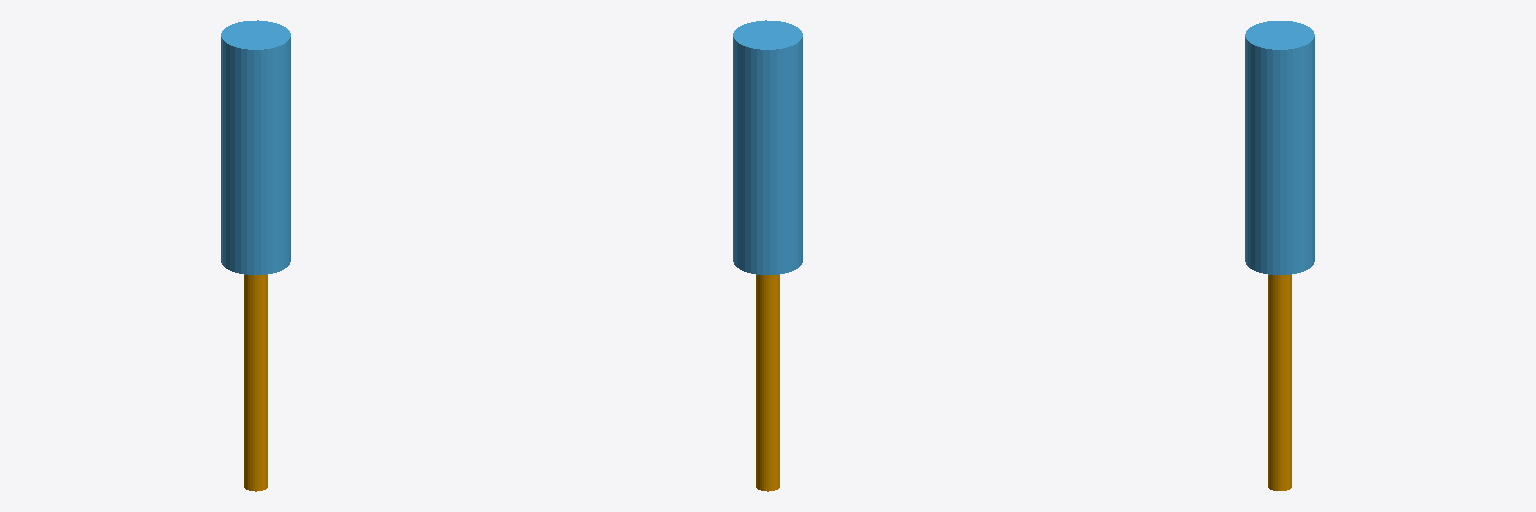
robot.urdf — screwdriver_on_the_table:
<?xml version="1.0" ?>
<!-- this is the one without any virtual joints and links -->
<robot name="screwdriver_on_the_table">
<link name="screwdriver_stick">
    <inertial>
      <mass value="0.05"/>
      <!-- <friction value="1.0"/> -->
      <inertia ixx="0.000041979" ixy="0.0" ixz="0.0" iyy="0.000041979" iyz="0.0" izz="0.000000625"/>
    </inertial>
    <visual>
        <origin rpy="0 0 0" xyz="0 0 0.05"/>
        <geometry>
            <cylinder radius="0.005" length="0.1"/>
        </geometry>
        <!-- <material name="White">
	 	    <color rgba="0.9 0.9 0.9 0.5"/>
        </material> -->
    </visual>
    <collision>
        <origin rpy="0 0 0" xyz="0 0 0.05"/>
        <geometry>
            <cylinder radius="0.005" length="0.1"/>
        </geometry>
    </collision>
</link>

<gazebo reference="screwdriver_body">
    <mu1>0.338520</mu1>
    <mu2>0.678544</mu2>
    <!-- Isaac Sim maps mu1/mu2 to PhysX static/dynamic friction during URDF→USD import -->
</gazebo>

<joint name="screwdriver_stick_body_joint" type="fixed">
    <parent link="screwdriver_stick"/>
    <child link="screwdriver_body"/>
    <origin rpy="0 0 0" xyz="0 0 0.1"/> 
    <axis xyz="0 0 1"/>
</joint>

<link name="screwdriver_body">
    <inertial>
      <mass value="0.084357"/>
      <inertia ixx="0.000074441" ixy="0.0" ixz="0.0" iyy="0.000074441" iyz="0.0" izz="0.000010000"/>
    </inertial>
    <visual>
        <origin rpy="0 0 0" xyz="0 0 0.05"/>
        <geometry>
            <cylinder radius="0.014016" length="0.1"/>
        </geometry>
        <!-- <material name="Red1">
	 	    <color rgba="0.9 0. 0. 0.5"/>
        </material> -->
    </visual>
    <collision>
        <origin rpy="0 0 0" xyz="0 0 0.05"/>
        <geometry>
            <cylinder radius="0.014016" length="0.1"/>
        </geometry>
    </collision>
</link>

<!-- <joint name="screwdriver_body_cap_joint" type="revolute">
    <parent link="screwdriver_body"/>
    <child link="screwdriver_cap"/>
    <origin rpy="0 0 0" xyz="0 0 0.1"/> 
    <axis xyz="0 0 1"/>
</joint>

<link name="screwdriver_cap">
    <inertial>
      <mass value="0.005"/>
      <inertia ixx="0.00001" ixy="0.0" ixz="0.0" iyy="0.000005" iyz="0.0" izz="0.000005"/>
    </inertial>
    <visual>
        <origin rpy="0 0 0" xyz="0 0 0.0006"/>
        <geometry>
            <cylinder radius="0.02" length="0.001"/>
        </geometry>
        <material name="Yellow">
	 	    <color rgba="0.9 0.9 0. 1.0"/>
        </material>
    </visual>
    <collision>
        <origin rpy="0 0 0" xyz="0 0 0.0005"/>
        <geometry>
            <cylinder radius="0.02" length="0.001"/>
        </geometry>
    </collision>
</link> -->

</robot>

--- Facts derived from the render (not from the file) ---
The picture shows the robot from 3 angles, left to right: view 1: azimuth 30°, elevation 25°; view 2: azimuth 150°, elevation 25°; view 3: azimuth 270°, elevation 25°; orthographic projection.
Model screwdriver_on_the_table with 2 links and 1 joints (1 fixed), rooted at screwdriver_stick, posed all joints at 0.
Visible links, largest first — view 1: screwdriver_body, screwdriver_stick; view 2: screwdriver_body, screwdriver_stick; view 3: screwdriver_body, screwdriver_stick.
Link boxes in pixels (x1,y1,x2,y2): screwdriver_body: (221, 20, 290, 274); screwdriver_stick: (244, 275, 267, 491); screwdriver_body: (733, 20, 802, 274); screwdriver_stick: (756, 275, 779, 491); screwdriver_body: (1245, 21, 1314, 274); screwdriver_stick: (1268, 275, 1291, 490).
Bounding box of the posed robot: 0.028 × 0.028 × 0.2 m (x, y, z).
Geometry: primitives only (box / cylinder / sphere), no mesh files.
